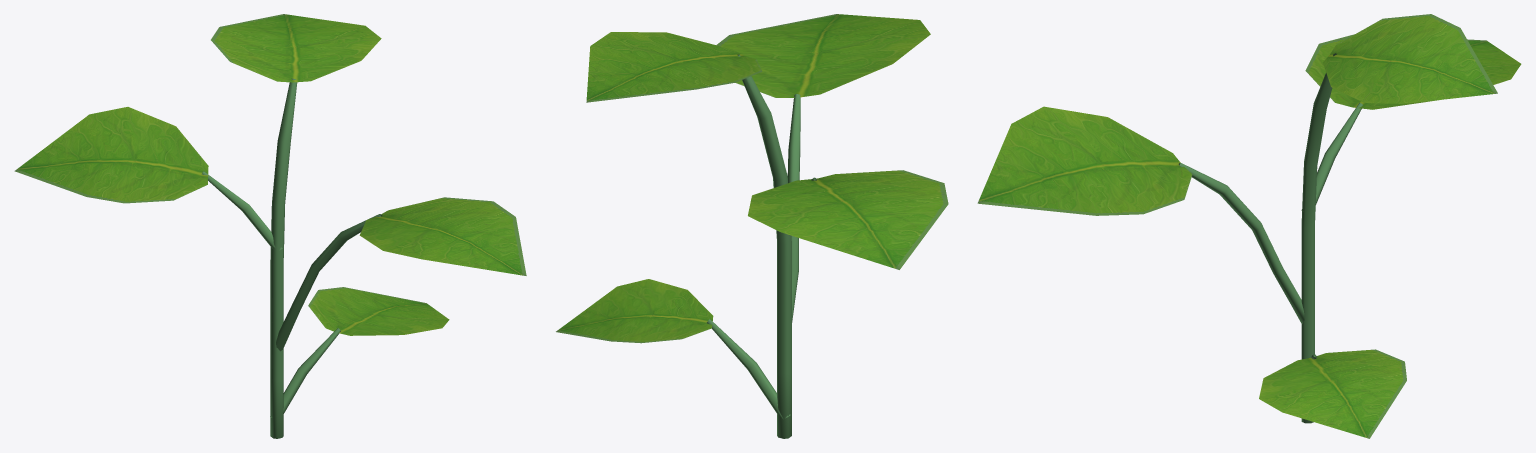
File: PlatformLeaves01.fbx
3 views of the same model, side by side, from view 1: azimuth 30°, elevation 25°; view 2: azimuth 150°, elevation 25°; view 3: azimuth 270°, elevation 25° (orthographic). The views are drawn at different scales.
Visible parts, largest first — view 1: jumpLeaf3, jumpLeaf2, jumpLeaf1, stem, jumpLeaf4; view 2: jumpLeaf3, jumpLeaf2, jumpLeaf1, stem, jumpLeaf4; view 3: jumpLeaf2, jumpLeaf1, jumpLeaf4, stem, jumpLeaf3.
Boxes of the visible parts, left/top/right/bottom form: jumpLeaf3: left=14, top=107, right=208, bottom=203; jumpLeaf2: left=359, top=197, right=526, bottom=275; jumpLeaf1: left=211, top=14, right=381, bottom=82; stem: left=202, top=78, right=382, bottom=438; jumpLeaf4: left=308, top=287, right=449, bottom=335; jumpLeaf3: left=748, top=170, right=948, bottom=269; jumpLeaf2: left=716, top=14, right=930, bottom=97; jumpLeaf1: left=586, top=32, right=762, bottom=102; stem: left=706, top=54, right=816, bottom=438; jumpLeaf4: left=556, top=279, right=713, bottom=343; jumpLeaf2: left=977, top=106, right=1192, bottom=215; jumpLeaf1: left=1323, top=14, right=1497, bottom=103; jumpLeaf4: left=1259, top=349, right=1406, bottom=438; stem: left=1178, top=53, right=1363, bottom=423; jumpLeaf3: left=1305, top=34, right=1521, bottom=109.
Size of the model in its own units: 18.84 by 17.93 by 22.09.
Materials: 2 (2 with a texture image).
